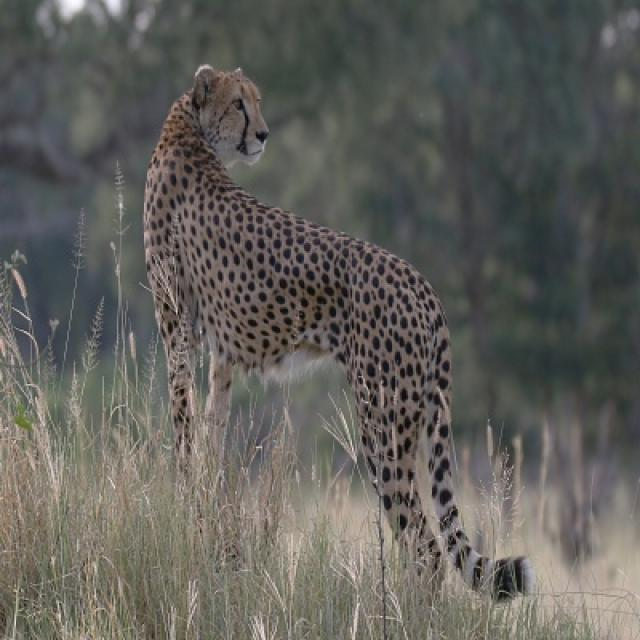Cheetah: (142, 66, 530, 602)
